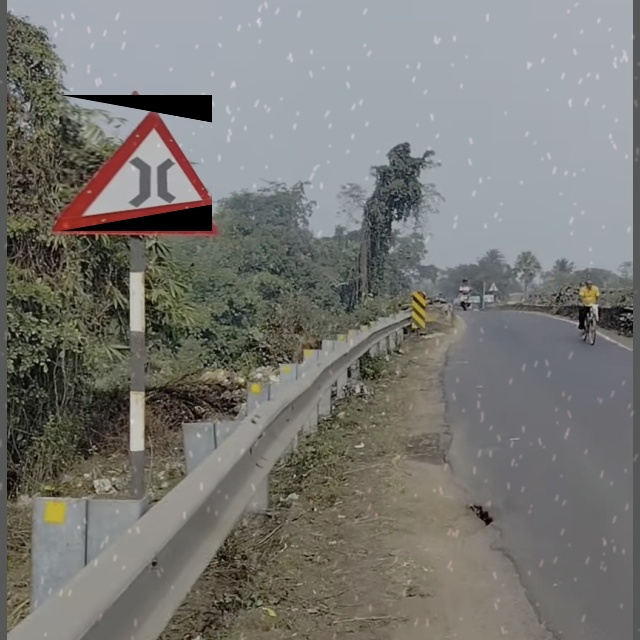Narrow_Bridge: (60, 95, 212, 231)
